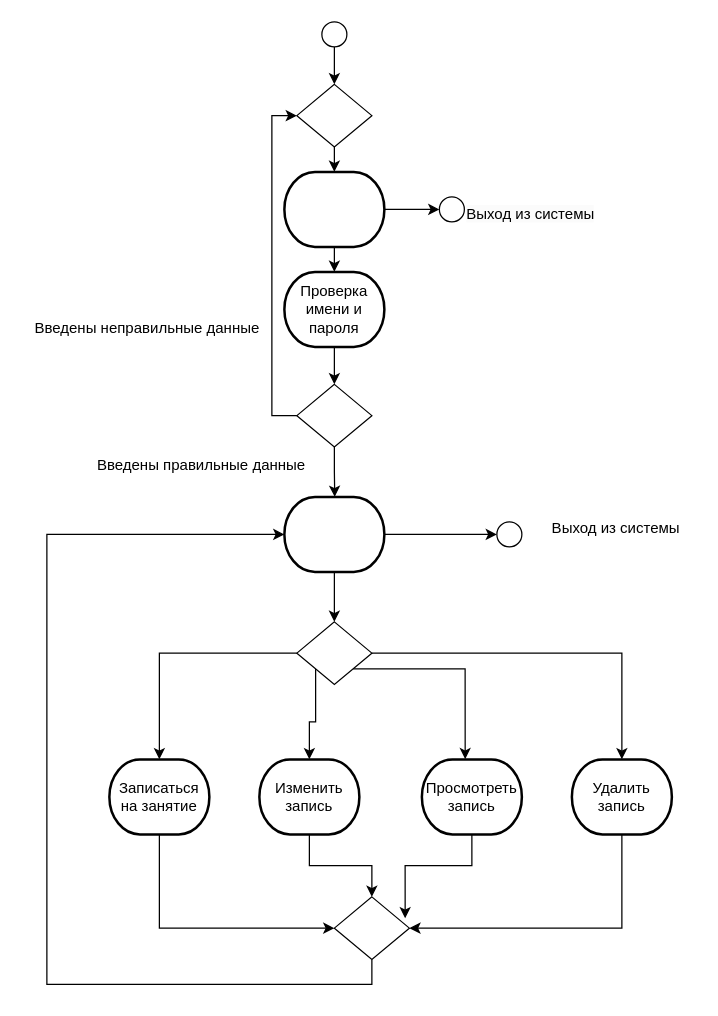
Image size: 718x1016. Some labels were removed from this diagram. Each missing label, with the centre of its shape:
Ввод имени и пароля: point 333,209
Выбрать кружок для записи: point 333,533
